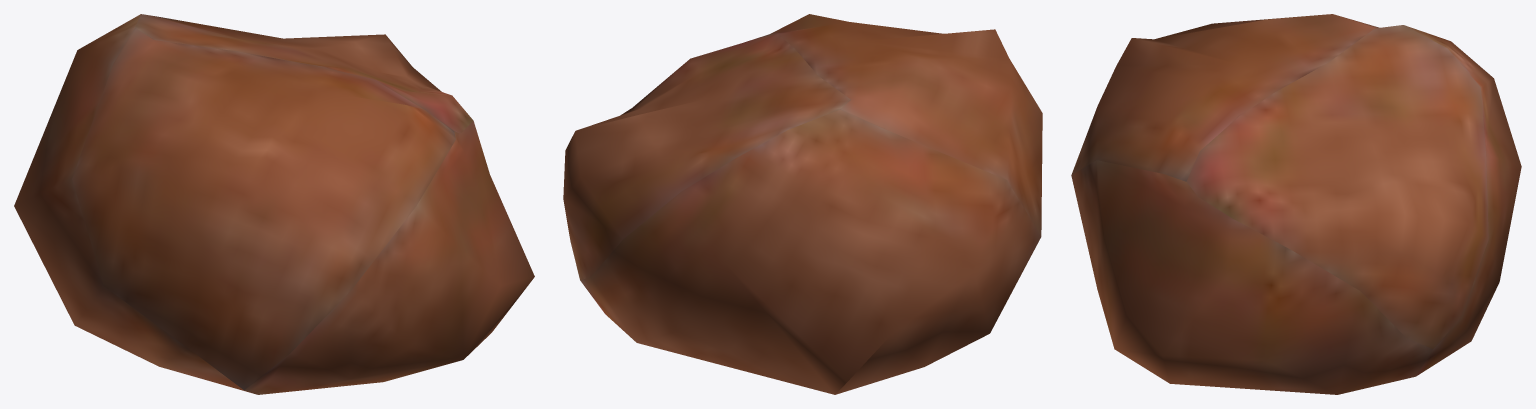
Rendered from Canyon_Rock_Boulders_1.glb.
3 renders of one model, left to right at view 1: azimuth 30°, elevation 25°; view 2: azimuth 150°, elevation 25°; view 3: azimuth 270°, elevation 25°, orthographic. The views are drawn at different scales.
Parts seen in each view (by area): view 1: Canyon_Rock_Boulders_1_0; view 2: Canyon_Rock_Boulders_1_0; view 3: Canyon_Rock_Boulders_1_0.
Part boxes in pixels (<box>): Canyon_Rock_Boulders_1_0: <box>14,14,534,394</box>; Canyon_Rock_Boulders_1_0: <box>563,14,1042,394</box>; Canyon_Rock_Boulders_1_0: <box>1071,14,1521,394</box>.
Bounding box in the file's own units: 2.41 × 1.63 × 2.43.
1 material, 1 textured.
